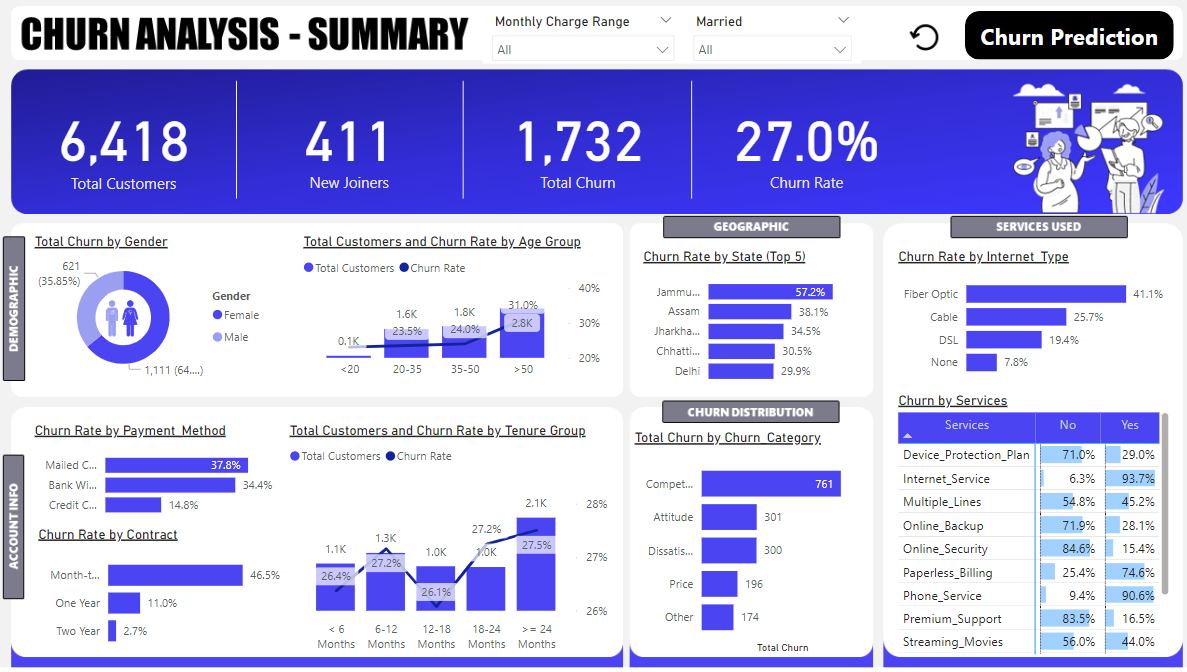

What the dashboard file says about the page in this screenshot:
{"tool":"powerbi","page":{"name":"Summary","canvas":[1280,800],"ordinal":0},"visuals":[{"type":"image","box":[97.8,352.4,65.7,60.3],"z":0},{"type":"card","fields":{"Values":["tbl_Measures.Total Customers"]},"box":[18.8,135.3,227.8,121.9],"z":1000},{"type":"card","fields":{"Values":["tbl_Measures.New Joiners"]},"box":[261.3,135.3,226.5,120.6],"z":2000},{"type":"card","fields":{"Values":["tbl_Measures.Total Churn"]},"box":[506.5,135.3,226.5,120.6],"z":3000},{"type":"card","fields":{"Values":["tbl_Measures.Churn Rate"]},"box":[751.8,135.3,226.5,120.6],"z":4000},{"type":"donutChart","fields":{"Y":["tbl_Measures.Total Churn"],"Category":["prod_Churn.Gender"]},"box":[32.2,292.1,261.3,163.5],"z":5000},{"type":"lineStackedColumnComboChart","fields":{"Category":["mapping_AgeGrp.Age Group"],"Y":["tbl_Measures.Total Customers"],"Y2":["tbl_Measures.Churn Rate"]},"box":[320.3,292.1,328.3,163.5],"z":6000},{"type":"clusteredBarChart","fields":{"Category":["prod_Churn.Payment_Method"],"Y":["tbl_Measures.Churn Rate"]},"box":[32.2,494.5,273.4,111.2],"z":7000},{"type":"clusteredBarChart","fields":{"Category":["prod_Churn.Contract"],"Y":["tbl_Measures.Churn Rate"]},"box":[36.2,605.7,269.3,142],"z":8000},{"type":"lineStackedColumnComboChart","fields":{"Category":["mapping_TenureGrp.Tenure Group"],"Y":["tbl_Measures.Total Customers"],"Y2":["tbl_Measures.Churn Rate"]},"box":[305.5,494.5,351.1,253.3],"z":9000},{"type":"clusteredBarChart","title":"Churn Rate by State (Top 5)","fields":{"Category":["prod_Churn.State"],"Y":["tbl_Measures.Churn Rate"]},"box":[684.8,308.2,246.6,154.1],"z":10000},{"type":"clusteredBarChart","fields":{"Y":["tbl_Measures.Total Churn"],"Category":["prod_Churn.Churn_Category"]},"box":[675.4,502.5,255.9,245.2],"z":11000},{"type":"clusteredBarChart","fields":{"Category":["prod_Churn.Internet_Type"],"Y":["tbl_Measures.Churn Rate"]},"box":[958.1,308.2,300.2,147.4],"z":12000},{"type":"pivotTable","title":"Churn by Services","fields":{"Rows":["prod_Services.Services"],"Columns":["prod_Services.Status"],"Values":["Sum(prod_Services.Churn Status)"]},"box":[958.1,462.3,300.2,285.4],"z":13000},{"type":"slicer","fields":{"Values":["prod_Churn.Monthly Charge Status"]},"box":[517.3,50.9,215.7,59],"z":14000},{"type":"slicer","fields":{"Values":["prod_Churn.Married"]},"box":[733,50.9,190.3,59],"z":15000},{"type":"shape","box":[1034.5,53.6,223.8,52.3],"z":15001},{"type":"image","box":[958.1,60.3,65.7,41.5],"z":15002}]}

Visuals, with their boxes on the page's 1280x800 design canvas (x1, y1, x2, y2). These are canvas units, not pixel positions in the 1187x672 screenshot, which may show the page scaled, cropped or inside an application window:
image: (98,352,164,413)
card - tbl_Measures.Total Customers: (19,135,247,257)
card - tbl_Measures.New Joiners: (261,135,488,256)
card - tbl_Measures.Total Churn: (506,135,733,256)
card - tbl_Measures.Churn Rate: (752,135,978,256)
donutChart - tbl_Measures.Total Churn x prod_Churn.Gender: (32,292,294,456)
lineStackedColumnComboChart - mapping_AgeGrp.Age Group x tbl_Measures.Total Customers: (320,292,649,456)
clusteredBarChart - prod_Churn.Payment_Method x tbl_Measures.Churn Rate: (32,494,306,606)
clusteredBarChart - prod_Churn.Contract x tbl_Measures.Churn Rate: (36,606,306,748)
lineStackedColumnComboChart - mapping_TenureGrp.Tenure Group x tbl_Measures.Total Customers: (306,494,657,748)
"Churn Rate by State (Top 5)" clusteredBarChart: (685,308,931,462)
clusteredBarChart - tbl_Measures.Total Churn x prod_Churn.Churn_Category: (675,502,931,748)
clusteredBarChart - prod_Churn.Internet_Type x tbl_Measures.Churn Rate: (958,308,1258,456)
"Churn by Services" pivotTable: (958,462,1258,748)
slicer - prod_Churn.Monthly Charge Status: (517,51,733,110)
slicer - prod_Churn.Married: (733,51,923,110)
shape: (1034,54,1258,106)
image: (958,60,1024,102)
